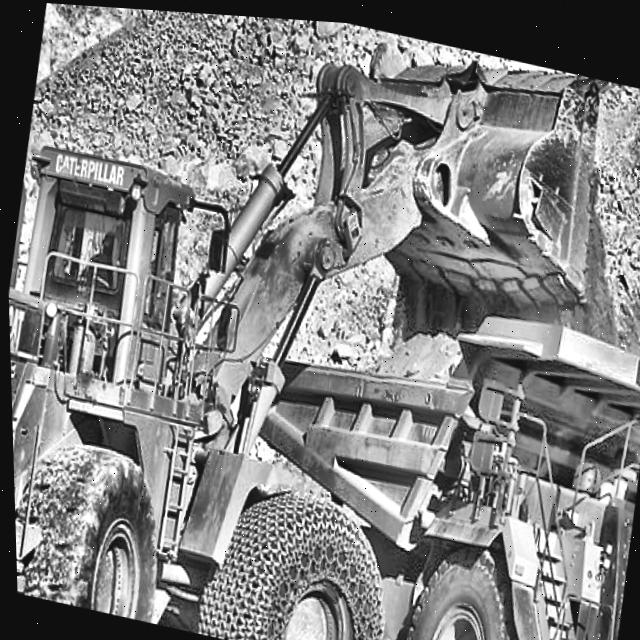buldozerpayloadergrader: (0, 0, 636, 640)
dump_truck: (200, 244, 640, 640)
